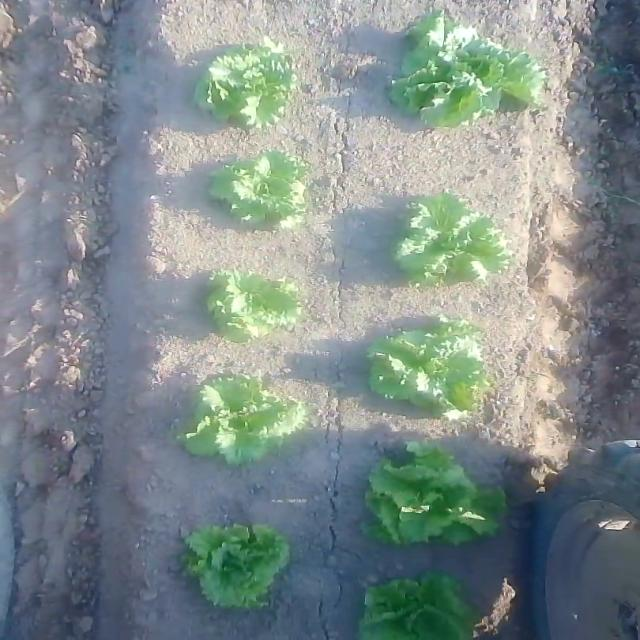Lettuce-Ready-to-Harvest: (352, 449, 509, 554), (330, 320, 501, 415), (386, 21, 532, 118), (178, 374, 305, 471), (402, 208, 493, 301), (210, 158, 313, 232), (183, 529, 278, 605)
